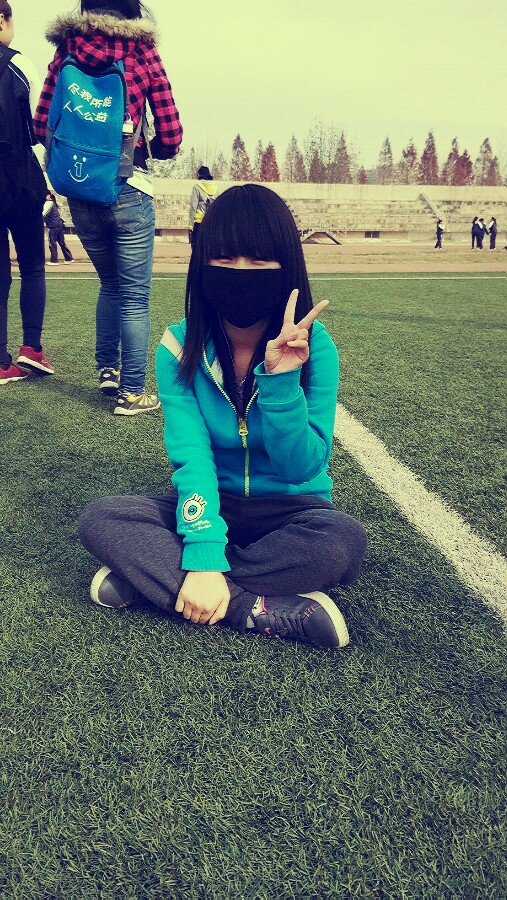face_mask: (209, 230, 285, 328)
